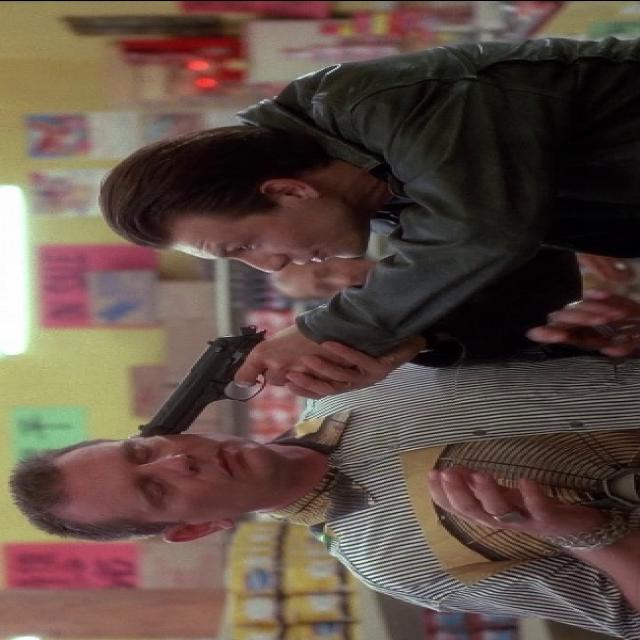weapons: (110, 320, 346, 438)
